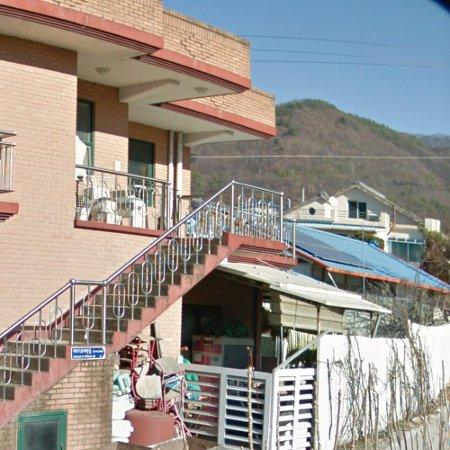stairs: (0, 184, 287, 404)
